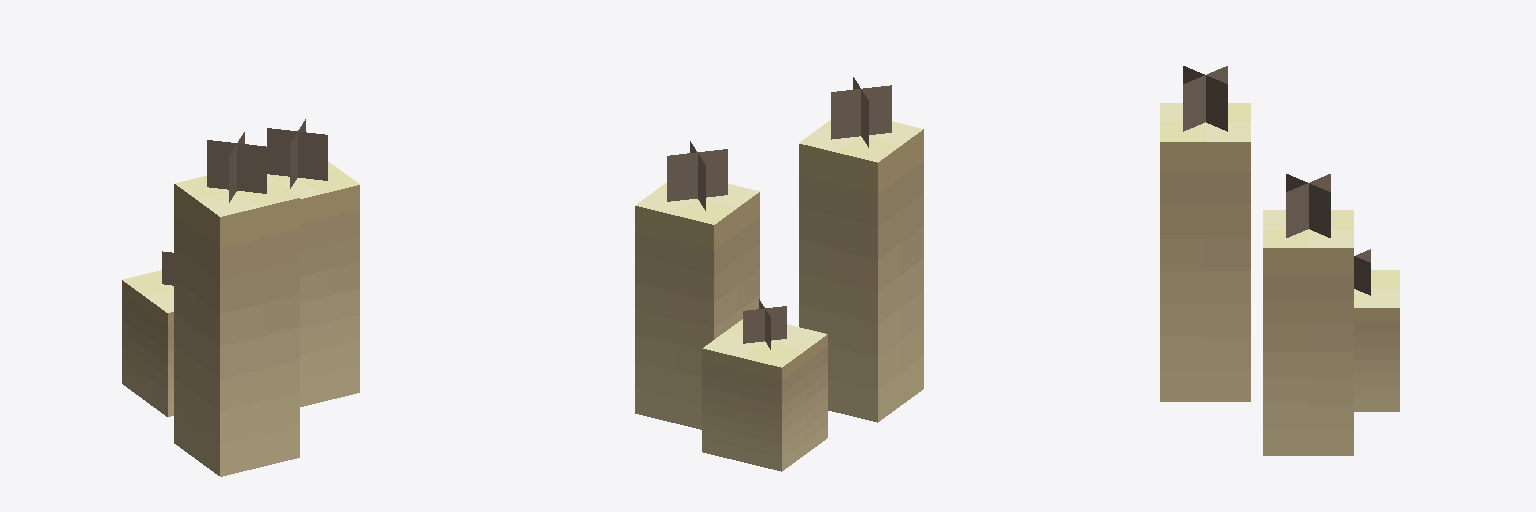
3 renders of one model, left to right at view 1: azimuth 30°, elevation 25°; view 2: azimuth 150°, elevation 25°; view 3: azimuth 270°, elevation 25°, orthographic.
Parts seen in each view (by area): view 1: Plane.002_Plane.003; view 2: Plane.002_Plane.003; view 3: Plane.002_Plane.003.
Part boxes in pixels (bbox=[...]): Plane.002_Plane.003: bbox=[122, 119, 359, 476]; Plane.002_Plane.003: bbox=[635, 77, 923, 471]; Plane.002_Plane.003: bbox=[1160, 66, 1399, 455].
Bounding box in the file's own units: 0.3856 × 0.5913 × 0.4194.
Materials: 2 (1 with a texture image).